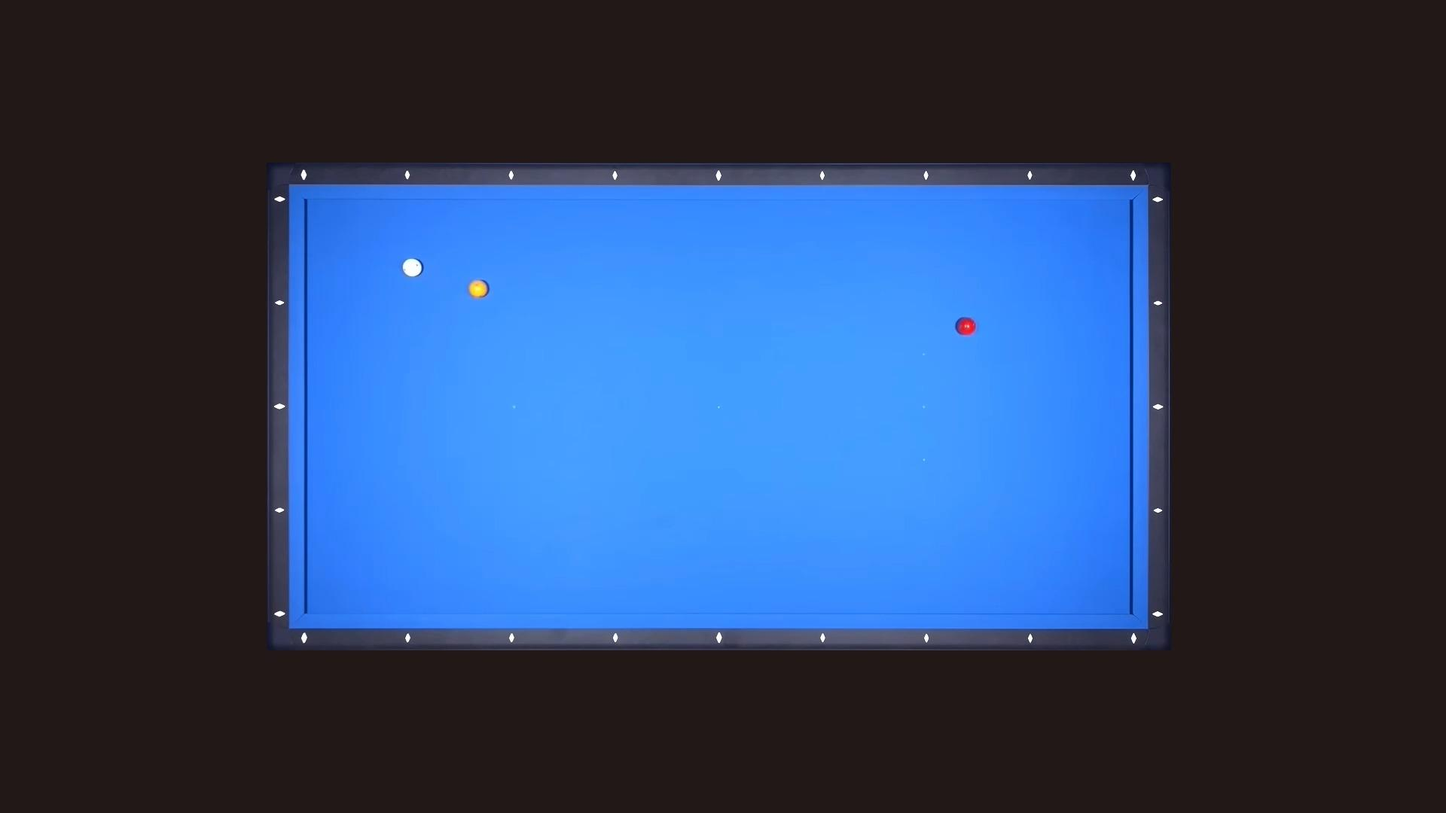-billiard-ball: (467, 279, 488, 299), (401, 257, 422, 277)
Red: (954, 318, 979, 336)
White: (400, 259, 425, 279)
Yellow: (467, 279, 492, 300)
